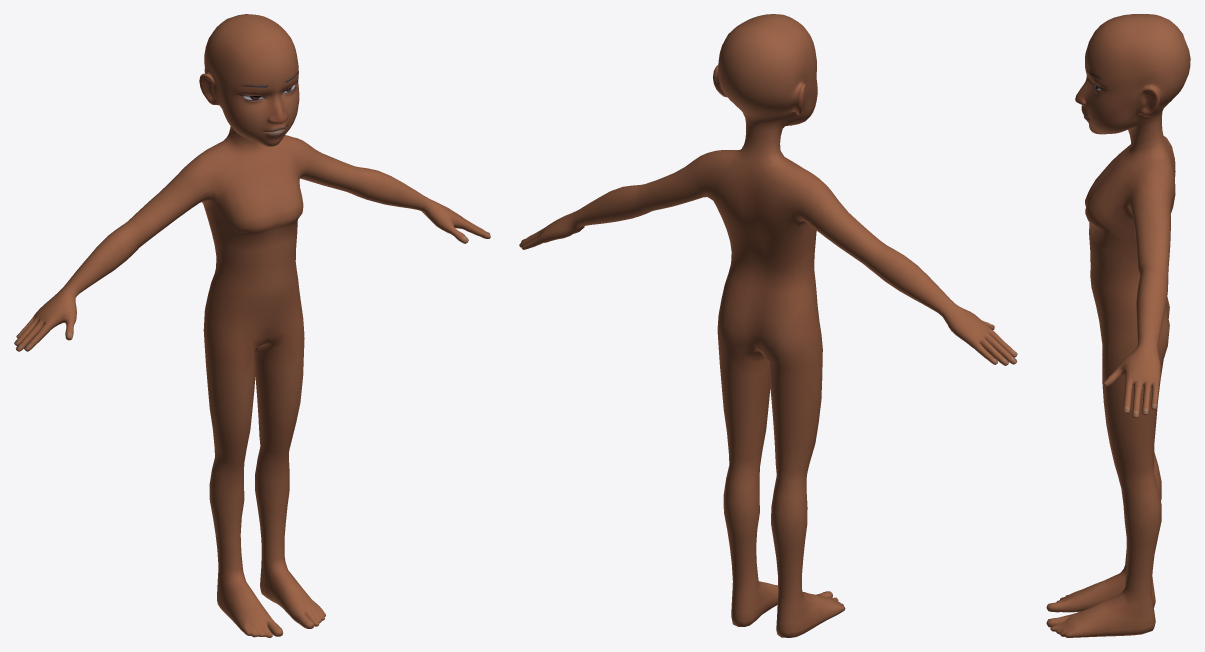
Rendered from frame_0054.glb.
3 views of the same model, side by side, from view 1: azimuth 30°, elevation 25°; view 2: azimuth 150°, elevation 25°; view 3: azimuth 270°, elevation 25° (orthographic). The views are drawn at different scales.
Parts seen in each view (by area): view 1: frame_0054_head_geo; view 2: frame_0054_head_geo; view 3: frame_0054_head_geo.
Part boxes in pixels (x1,y1,x2,y2): frame_0054_head_geo: (14, 14, 490, 637); frame_0054_head_geo: (519, 14, 1017, 637); frame_0054_head_geo: (1046, 14, 1190, 637).
Bounding box in the file's own units: 1.28 × 1.5 × 0.3253.
Materials: 3 (3 with a texture image).
